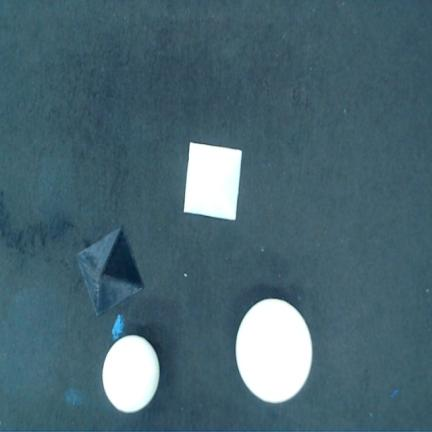Esfera: (236, 298, 312, 403), (102, 335, 159, 412)
Piramide: (78, 227, 144, 316), (184, 142, 242, 220)
